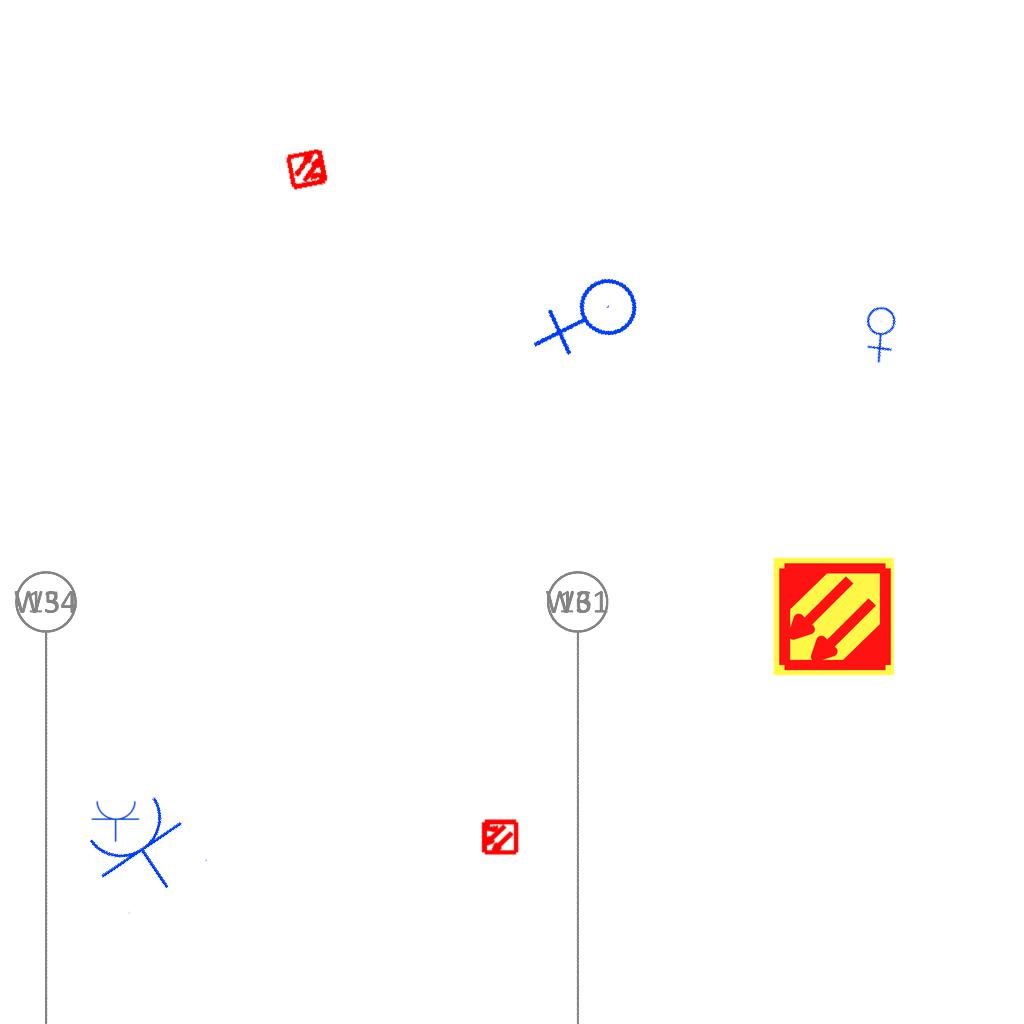ASR_Ansaugrauchmelder: (771, 554, 896, 679)
Elektroanschluss_allgemein_230V_Geraeteanschlussdose_230V: (530, 260, 653, 380), (848, 297, 917, 366)
OT_Multisensormelder_(Kombination_RMO_WMD): (275, 136, 341, 202), (471, 809, 527, 865)
Schukosteckdose_einfach: (78, 787, 210, 916), (91, 799, 141, 842)
